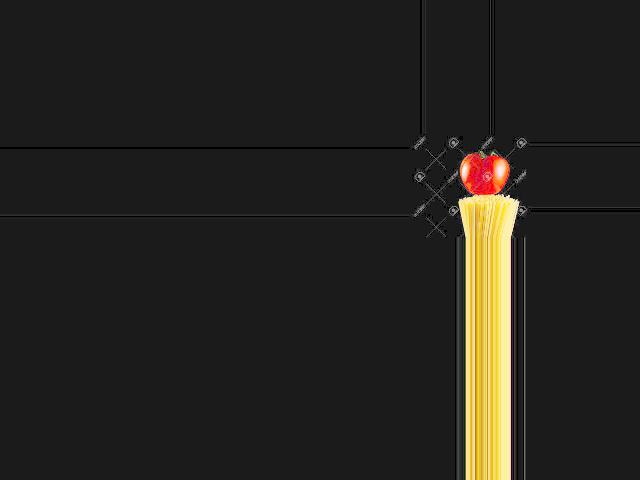tomato: (461, 153, 509, 195)
